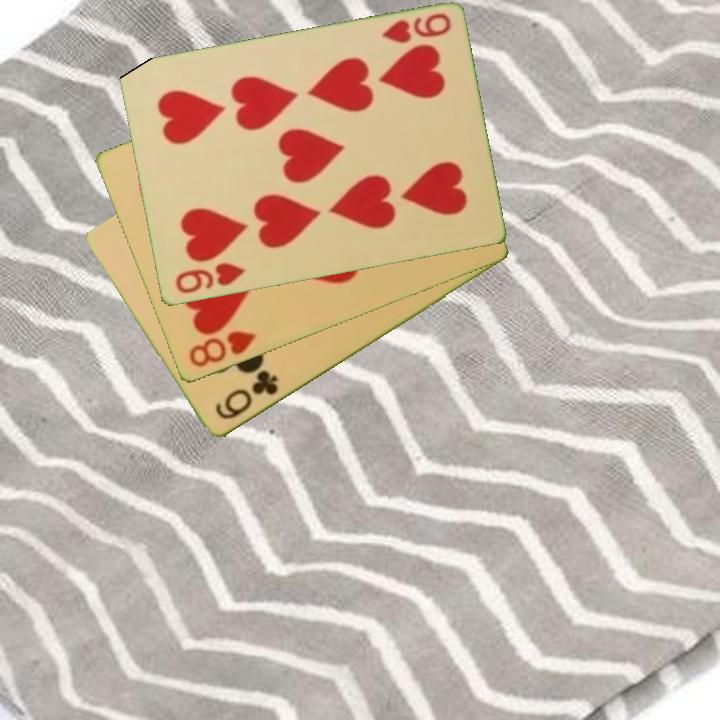6c: (211, 367, 282, 424)
8h: (185, 327, 259, 371)
9h: (171, 259, 248, 297), (378, 10, 454, 47)
